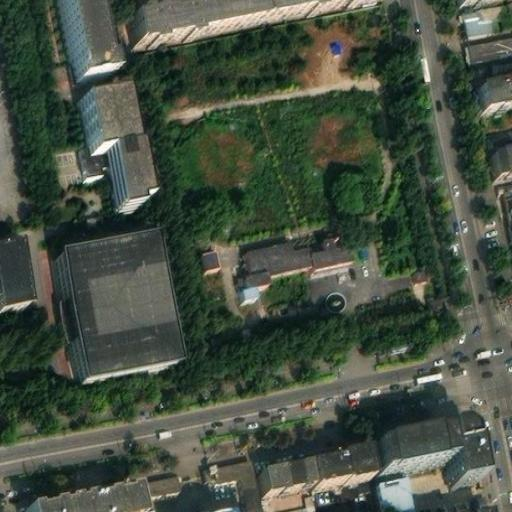building: (65, 219, 187, 369), (378, 420, 482, 474), (241, 235, 314, 295), (65, 0, 116, 72), (25, 483, 138, 512), (79, 84, 132, 145), (105, 136, 147, 205), (209, 455, 259, 512), (306, 445, 372, 483), (464, 0, 512, 35), (258, 462, 309, 492), (379, 469, 415, 510), (311, 229, 356, 260), (264, 487, 318, 512), (473, 72, 512, 106), (465, 31, 512, 59), (142, 472, 183, 495), (195, 245, 221, 273), (409, 261, 434, 284), (495, 141, 512, 171)
